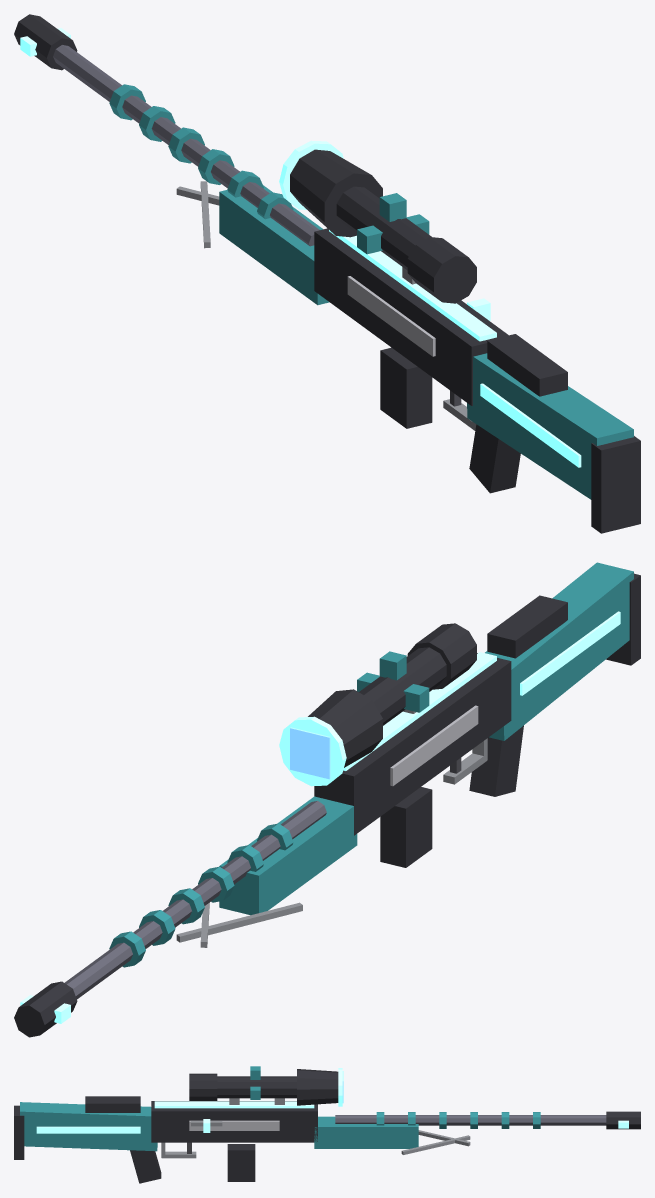
Rendered from sniper_mythic.glb.
3 renders of one model, top to bottom at view 1: azimuth 30°, elevation 25°; view 2: azimuth 150°, elevation 25°; view 3: azimuth 270°, elevation 25°, orthographic. The views are drawn at different scales.
Visible parts, largest first — view 1: EclipseRifle; view 2: EclipseRifle; view 3: EclipseRifle.
Part boxes in pixels (x1,y1,x2,y2): EclipseRifle: [14, 14, 640, 533]; EclipseRifle: [14, 562, 640, 1037]; EclipseRifle: [14, 1066, 640, 1183].
Size of the model in its own units: 0.1742 by 0.3559 by 1.8.
